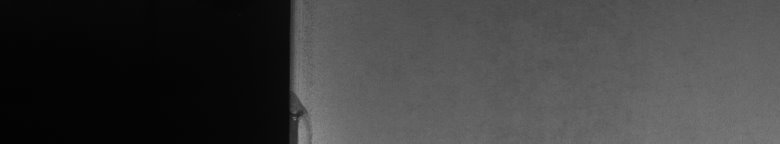hb: (300, 96, 316, 136)
